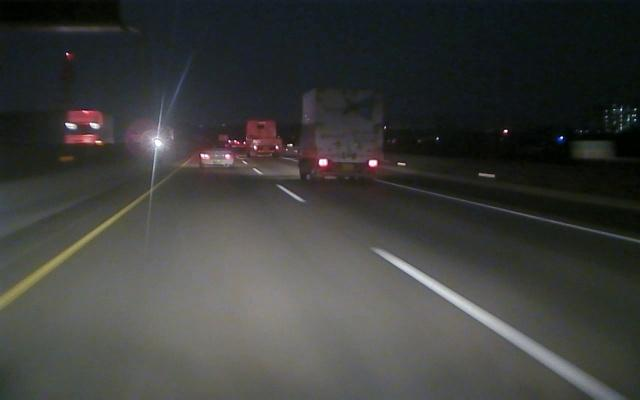lane: (284, 189, 626, 399), (1, 198, 140, 309), (396, 185, 640, 245)
